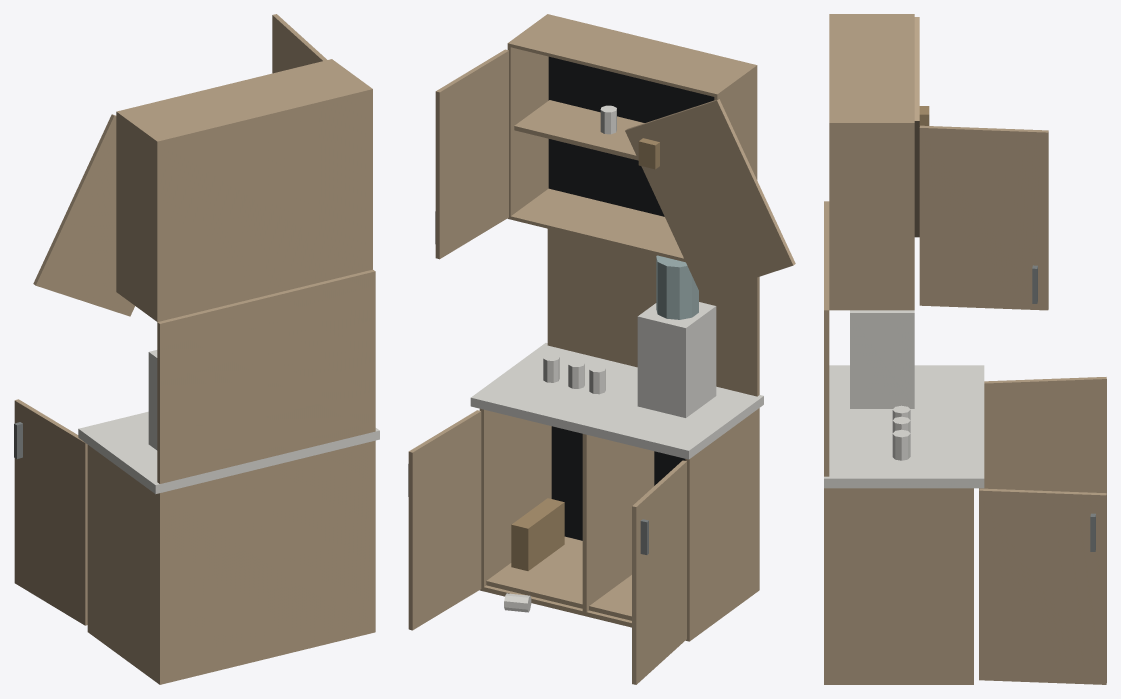
Rendered from tea_niche_broken.fbx.
3 views of the same model, side by side, from view 1: azimuth 30°, elevation 25°; view 2: azimuth 150°, elevation 25°; view 3: azimuth 270°, elevation 25° (orthographic). The views are drawn at different scales.
Visible parts, largest first — view 1: tea_niche_broken, tea_niche_broken_lowerL, tea_niche_broken_upperR; view 2: tea_niche_broken, tea_niche_broken_lowerR, tea_niche_broken_upperR, tea_niche_broken_lowerL; view 3: tea_niche_broken, tea_niche_broken_lowerR, tea_niche_broken_upperR, tea_niche_broken_lowerL.
Part boxes in pixels (x1,y1,x2,y2): tea_niche_broken: (33,59,379,684); tea_niche_broken_lowerL: (14,399,87,625); tea_niche_broken_upperR: (272,14,326,73); tea_niche_broken: (470,14,795,641); tea_niche_broken_lowerR: (408,410,481,630); tea_niche_broken_upperR: (435,49,508,259); tea_niche_broken_lowerL: (632,460,686,684); tea_niche_broken: (824,14,984,684); tea_niche_broken_lowerR: (979,488,1106,684); tea_niche_broken_upperR: (919,125,1048,310); tea_niche_broken_lowerL: (979,377,1106,493).
Size of the model in its own units: 1.44 by 2.4 by 1.09.
